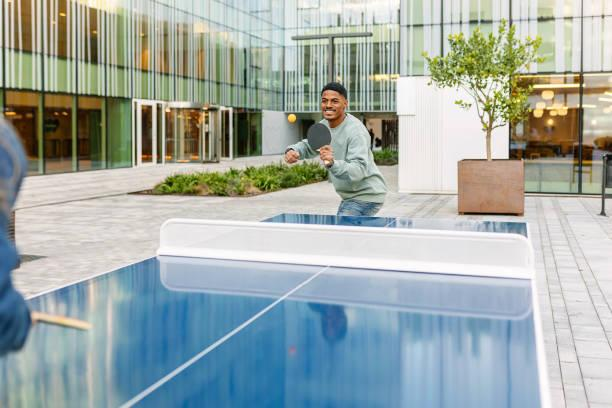ball_pingpong: (288, 113, 296, 124)
